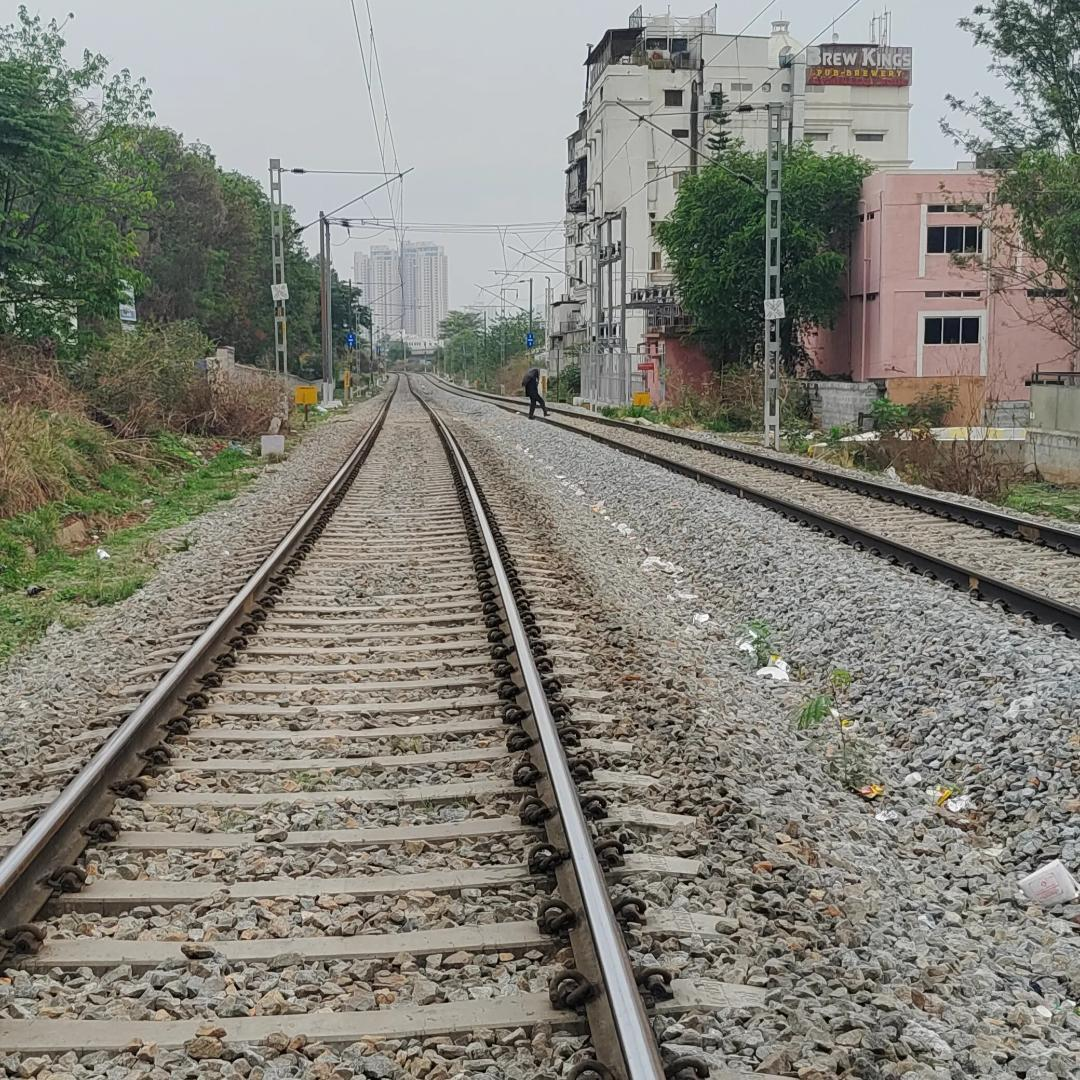standing: (519, 354, 558, 440)
track: (0, 371, 803, 1080)
